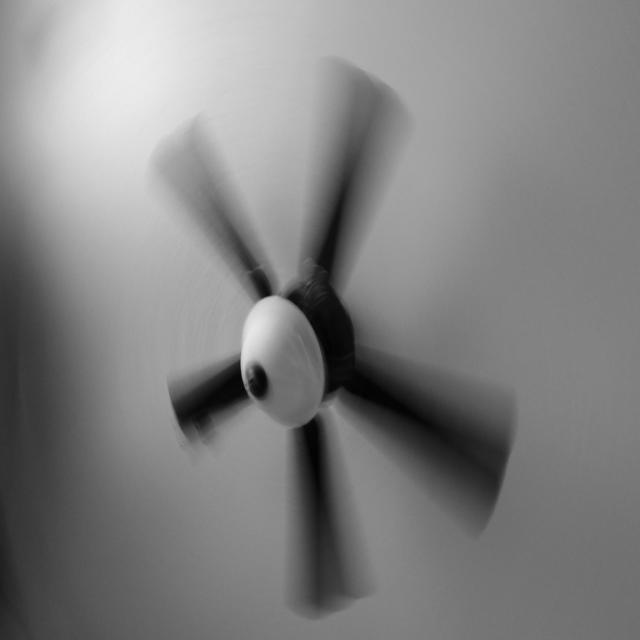fan_on: (157, 72, 512, 619)
